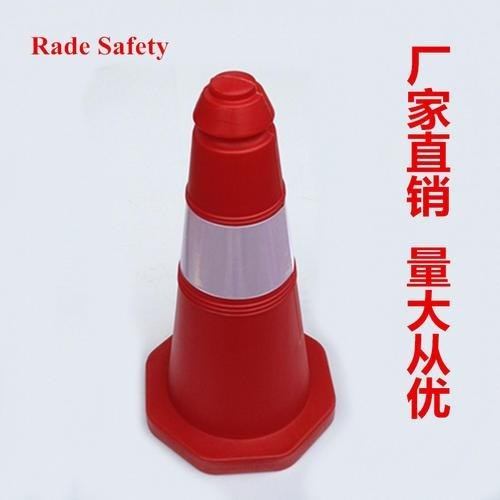cone_barrel: (139, 65, 335, 459)
